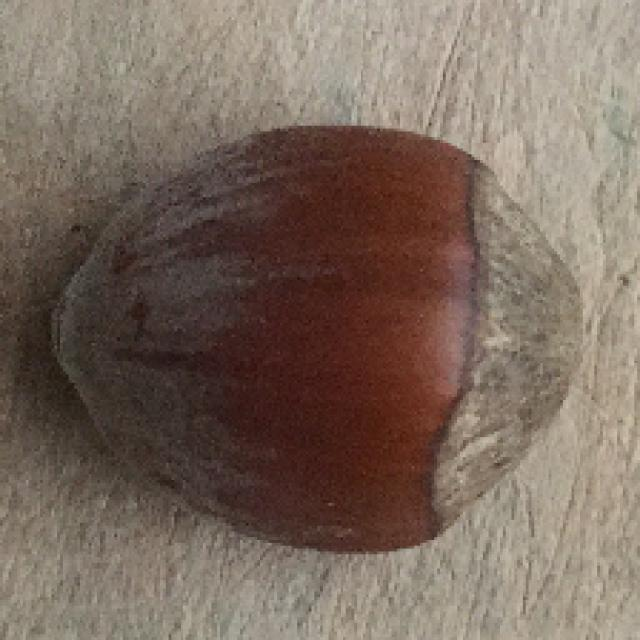QualityHazelnut: (53, 123, 581, 556)
